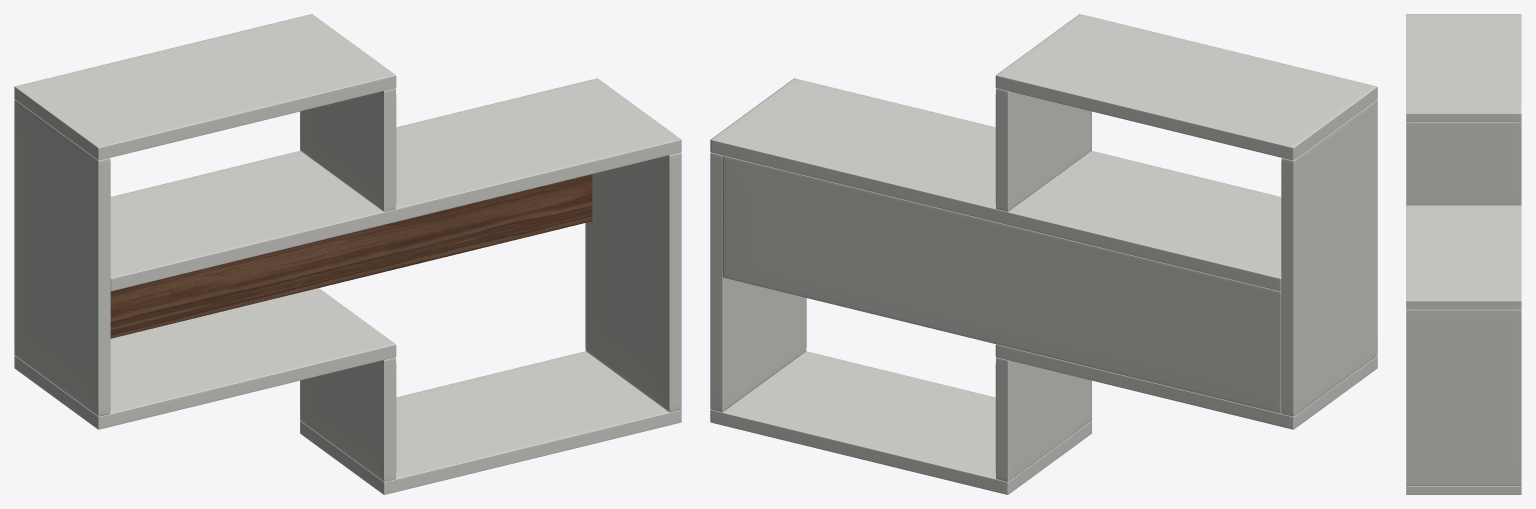
Rendered from floating_wall_shelf_unit.glb.
3 renders of one model, left to right at view 1: azimuth 30°, elevation 25°; view 2: azimuth 150°, elevation 25°; view 3: azimuth 270°, elevation 25°, orthographic. The views are drawn at different scales.
Visible parts, largest first — view 1: Object_3, Object_2; view 2: Object_3; view 3: Object_3.
Part boxes in pixels (x1=…): Object_3: x1=14, y1=14, x2=681, y2=494; Object_2: x1=110, y1=174, x2=592, y2=338; Object_3: x1=710, y1=14, x2=1377, y2=494; Object_3: x1=1406, y1=14, x2=1521, y2=494.
Size of the model in its own units: 0.8011 by 0.5472 by 0.1999.
2 materials, 1 textured.
